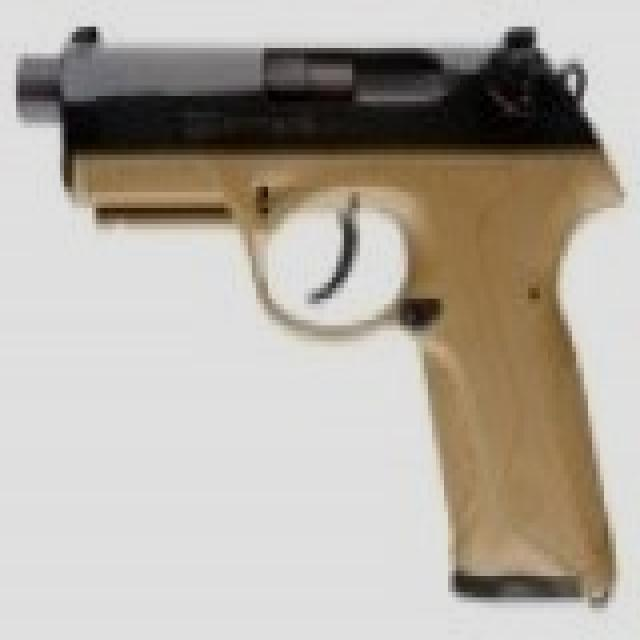pistol: (20, 11, 624, 592)
